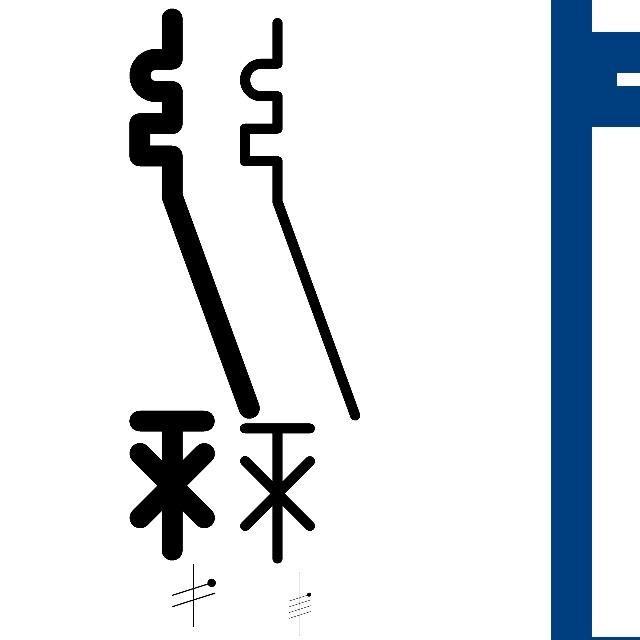interruptor_termomagnetico: (231, 9, 369, 572), (126, 5, 262, 563)
